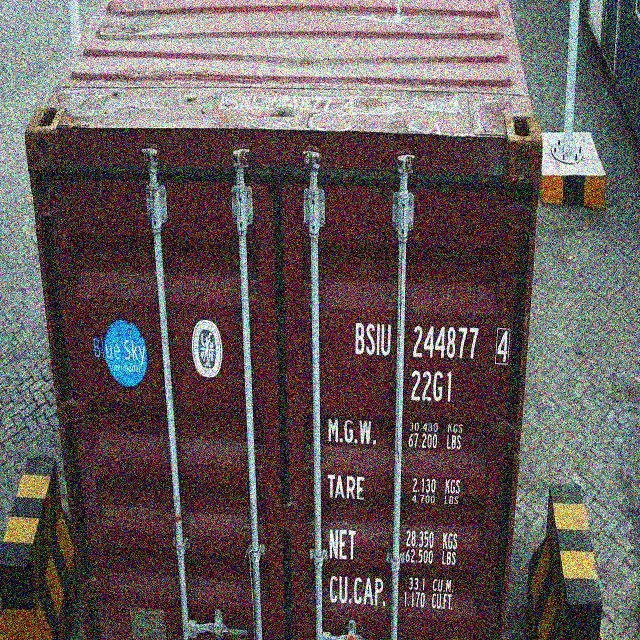Dent: (116, 18, 158, 49)
Rusty: (499, 108, 543, 185), (25, 96, 66, 173)
